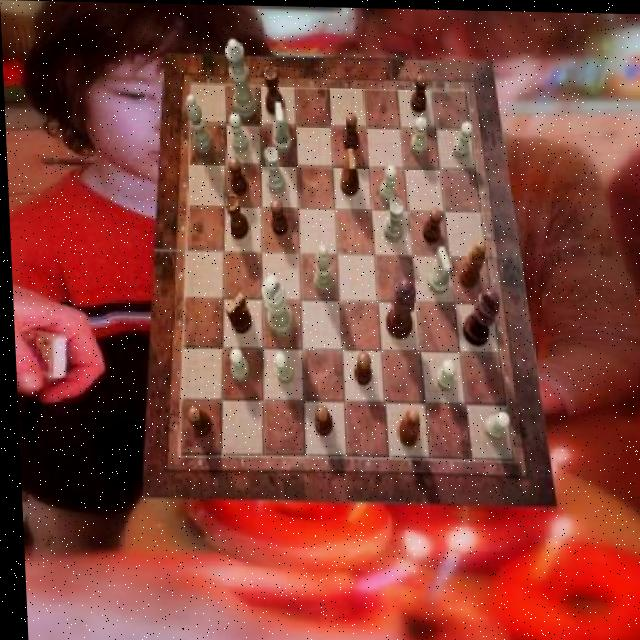bishop: (456, 239, 485, 288), (394, 406, 418, 445)
black-bishop: (459, 285, 498, 344)
black-king: (223, 291, 250, 334), (339, 146, 358, 195)
black-knight: (183, 404, 208, 437), (227, 156, 247, 195), (421, 206, 442, 242), (410, 72, 428, 112), (342, 112, 360, 151), (270, 197, 288, 235), (311, 403, 330, 436), (351, 351, 369, 385)
black-pawn: (382, 276, 416, 339)
black-queen: (224, 193, 248, 239), (264, 65, 284, 114)
black-rook: (186, 94, 213, 155), (311, 242, 333, 294)
white-bishop: (258, 274, 292, 337)
white-king: (424, 245, 449, 292), (270, 101, 291, 154)
white-knight: (450, 119, 474, 157), (228, 111, 249, 152), (480, 410, 507, 438), (378, 163, 397, 202), (410, 115, 428, 155), (226, 347, 246, 382), (271, 351, 292, 384), (432, 358, 453, 391)
white-pawn: (224, 38, 257, 118)
white-queen: (379, 196, 403, 242), (263, 145, 285, 193)
